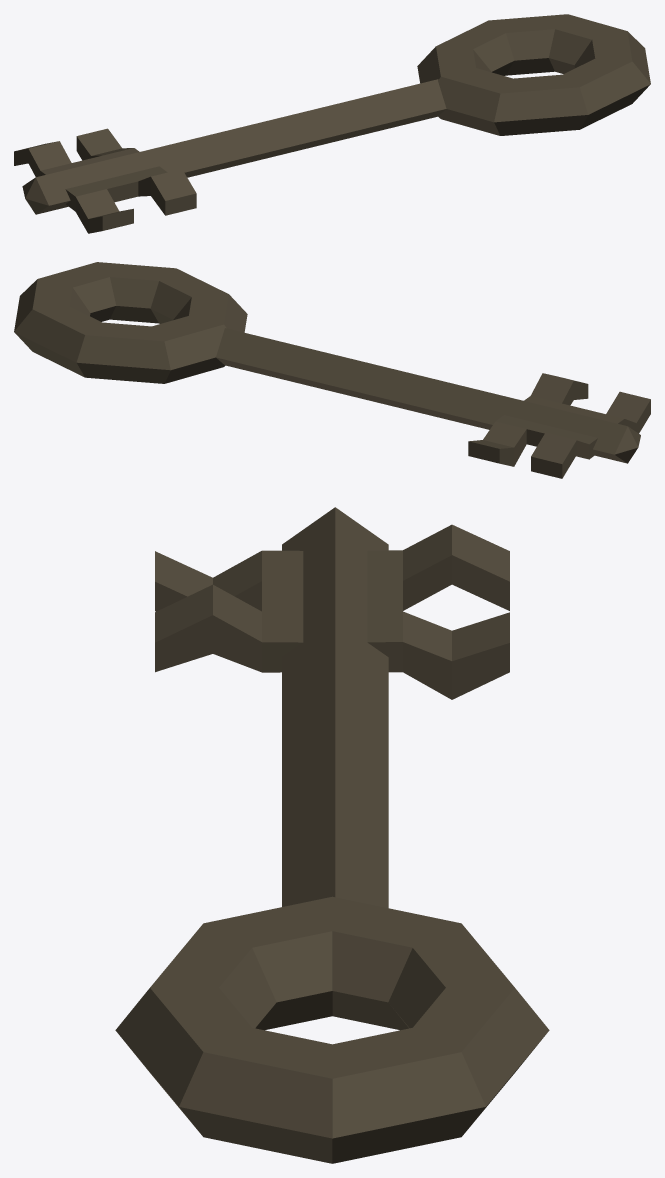
File: ITKE_KEY_03.OBJ
The picture shows the model from 3 angles, top to bottom: view 1: azimuth 30°, elevation 25°; view 2: azimuth 150°, elevation 25°; view 3: azimuth 270°, elevation 25°; orthographic projection. The views are drawn at different scales.
Visible parts, largest first — view 1: ITKE_KEY_03; view 2: ITKE_KEY_03; view 3: ITKE_KEY_03.
Part boxes in pixels (x1,y1,x2,y2): ITKE_KEY_03: (14,14,650,233); ITKE_KEY_03: (14,262,650,478); ITKE_KEY_03: (115,507,549,1163).
Size of the model in its own units: 0.2424 by 0.0159 by 0.0736.
